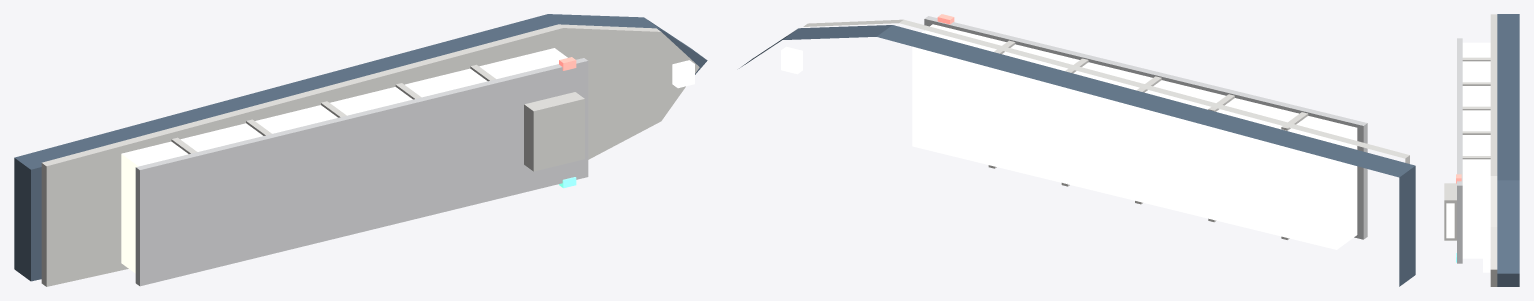
The model's file is bateau_mouche.glb.
3 views of the same model, side by side, from view 1: azimuth 30°, elevation 25°; view 2: azimuth 150°, elevation 25°; view 3: azimuth 270°, elevation 25° (orthographic). The views are drawn at different scales.
Visible parts, largest first — view 1: BateauMouche; view 2: BateauMouche; view 3: BateauMouche.
Part boxes in pixels (bbox=[...]): BateauMouche: bbox=[14, 14, 707, 286]; BateauMouche: bbox=[739, 14, 1415, 286]; BateauMouche: bbox=[1444, 14, 1519, 286].
Bounding box in the file's own units: 31.7 × 6.5 × 4.55.
